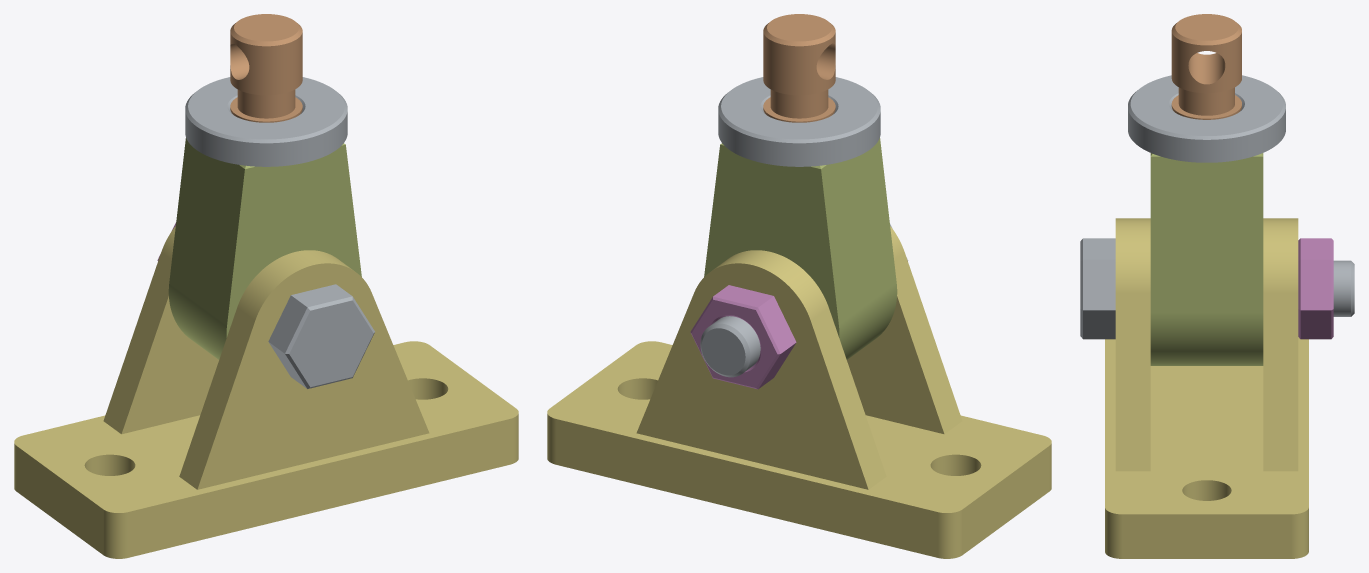
File: ax_machinists_jack.glb
3 renders of one model, left to right at view 1: azimuth 30°, elevation 25°; view 2: azimuth 150°, elevation 25°; view 3: azimuth 270°, elevation 25°, orthographic. The views are drawn at different scales.
Parts seen in each view (by area): view 1: base, swivel, lock nut M20 x 2.5, bolt M16 x 2.0 x 68, screw M20 x 2.5 x 56; view 2: base, swivel, lock nut M20 x 2.5, screw M20 x 2.5 x 56, standard nut M16 x 2.0, bolt M16 x 2.0 x 68; view 3: base, swivel, lock nut M20 x 2.5, screw M20 x 2.5 x 56, bolt M16 x 2.0 x 68, standard nut M16 x 2.0.
Boxes of the visible parts, bbox=[...] form: base: bbox=[14, 226, 518, 558]; swivel: bbox=[168, 138, 361, 359]; lock nut M20 x 2.5: bbox=[185, 77, 347, 166]; bolt M16 x 2.0 x 68: bbox=[268, 284, 374, 388]; screw M20 x 2.5 x 56: bbox=[230, 14, 302, 122]; base: bbox=[547, 226, 1051, 558]; swivel: bbox=[704, 138, 897, 359]; lock nut M20 x 2.5: bbox=[718, 77, 880, 166]; screw M20 x 2.5 x 56: bbox=[763, 14, 835, 122]; standard nut M16 x 2.0: bbox=[690, 285, 796, 389]; bolt M16 x 2.0 x 68: bbox=[700, 224, 907, 377]; base: bbox=[1105, 218, 1308, 558]; swivel: bbox=[1150, 153, 1263, 365]; lock nut M20 x 2.5: bbox=[1128, 75, 1285, 162]; screw M20 x 2.5 x 56: bbox=[1171, 14, 1241, 119]; bolt M16 x 2.0 x 68: bbox=[1080, 238, 1354, 339]; standard nut M16 x 2.0: bbox=[1298, 238, 1333, 339].
Bounding box in the file's own units: 132 × 136 × 78.
